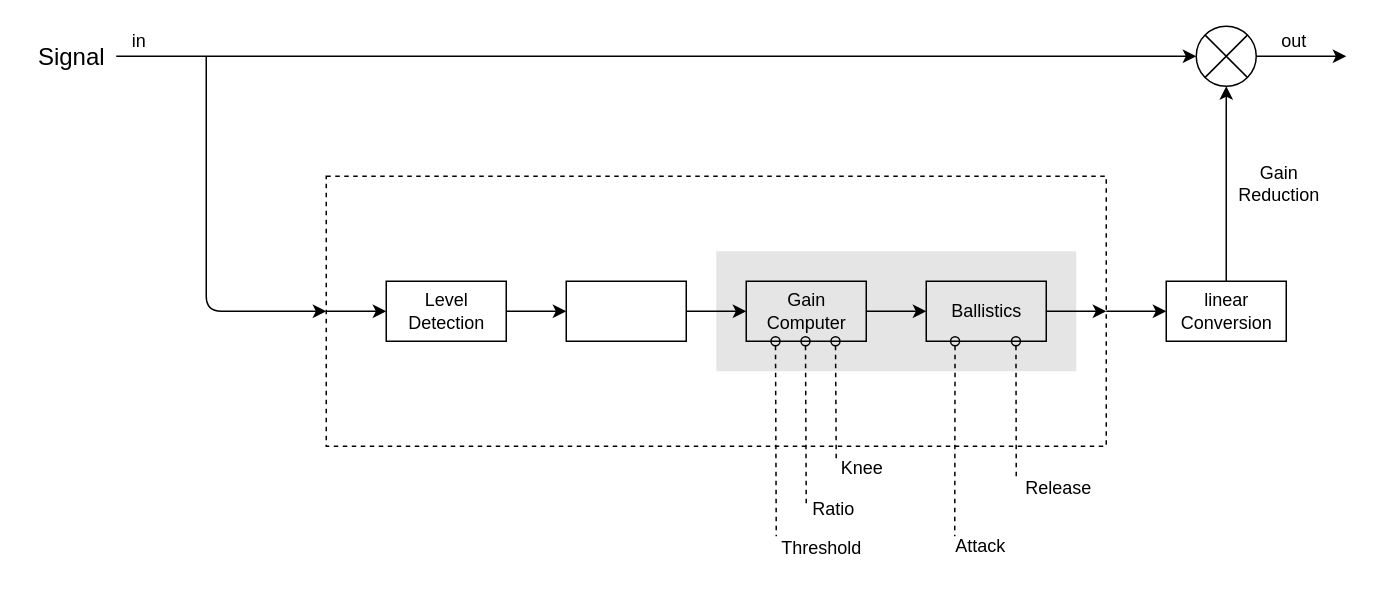
Some shapes in this 1385 by 590 pixel diagram are drawn without their labels. The centre of each missing label's shape, as x and y in pixels:
"dB Conversion" belongs at point 625,310.
"Log. Domain" belongs at point 896,310.
